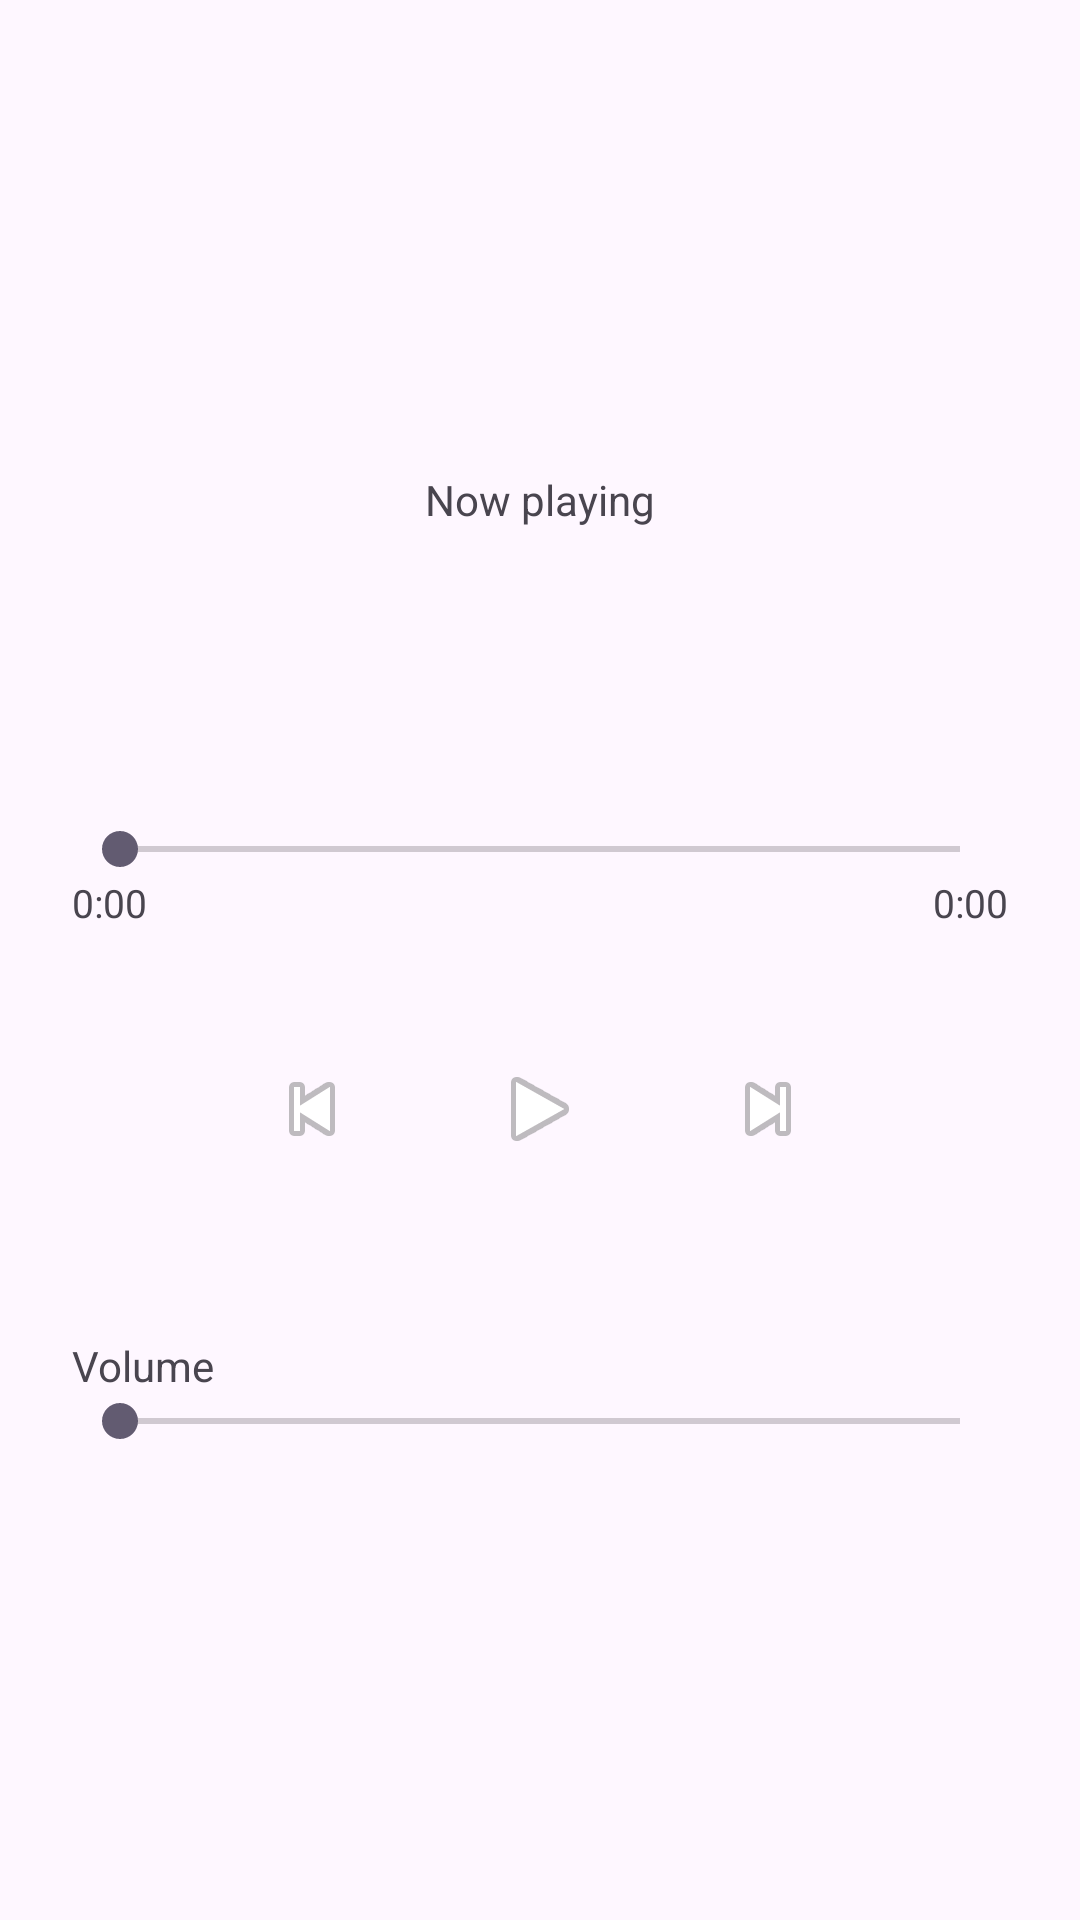

Icon click points for this 1080px x 1920px phone screenshot, format (x,y):
Next: (768,1109)
Play or pause: (540,1109)
Previous: (312,1109)
